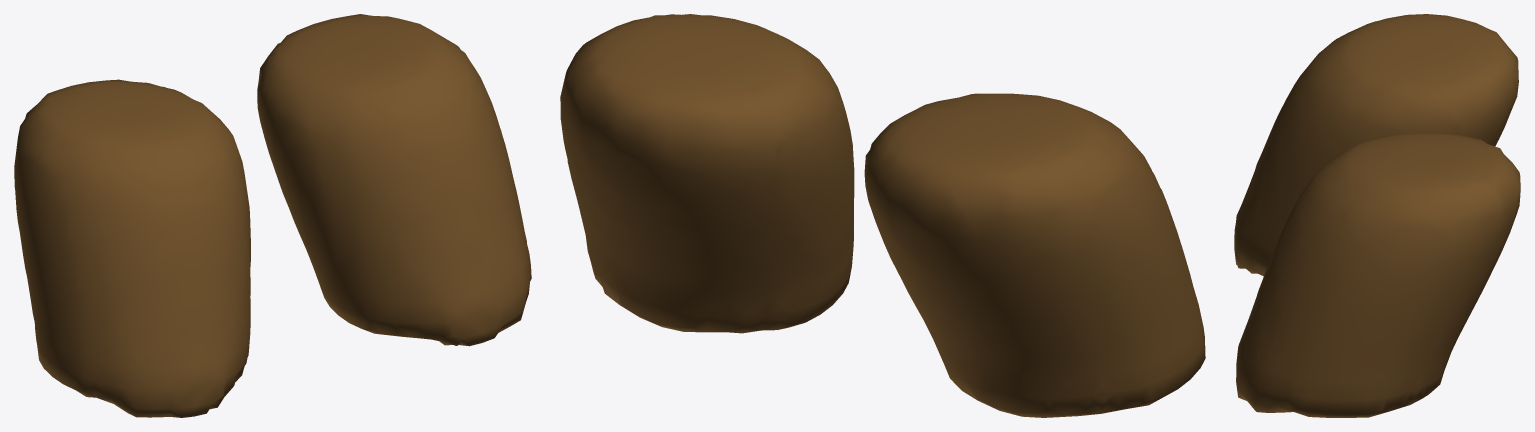
The model's file is Pants.fbx.
3 renders of one model, left to right at view 1: azimuth 30°, elevation 25°; view 2: azimuth 150°, elevation 25°; view 3: azimuth 270°, elevation 25°, orthographic. The views are drawn at different scales.
Visible parts, largest first — view 1: Cylinder.052, Cylinder.043; view 2: Cylinder.043, Cylinder.052; view 3: Cylinder.052, Cylinder.043.
Part boxes in pixels (x1,y1,x2,y2): Cylinder.052: [257, 14, 531, 346]; Cylinder.043: [14, 79, 250, 417]; Cylinder.043: [864, 93, 1205, 417]; Cylinder.052: [560, 14, 854, 333]; Cylinder.052: [1236, 132, 1520, 417]; Cylinder.043: [1234, 14, 1518, 276].
Size of the model in its own units: 163 by 89.68 by 79.56.
